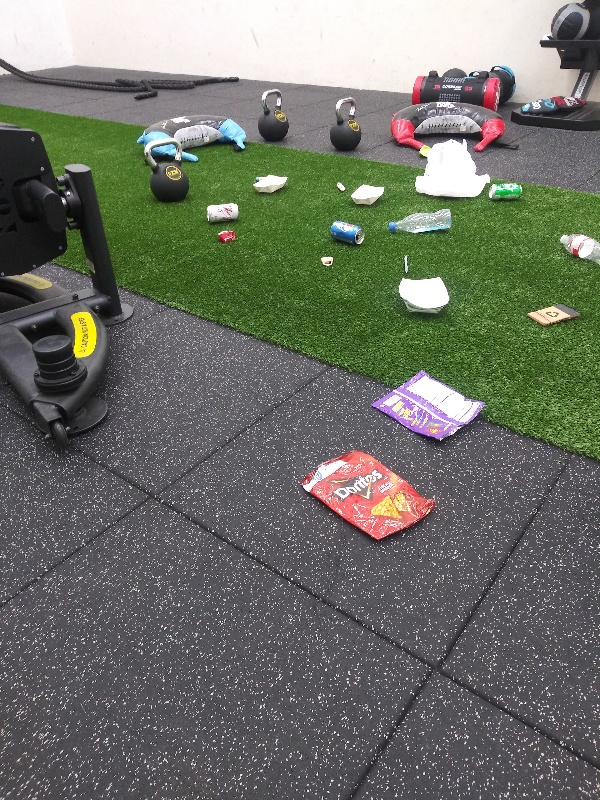bag: (296, 451, 438, 539), (367, 368, 490, 446)
bottle: (386, 208, 457, 241), (557, 224, 600, 272)
can: (202, 197, 241, 227), (329, 219, 371, 244), (485, 179, 524, 205)
plate: (393, 275, 452, 316), (251, 170, 290, 200), (350, 182, 387, 209)
